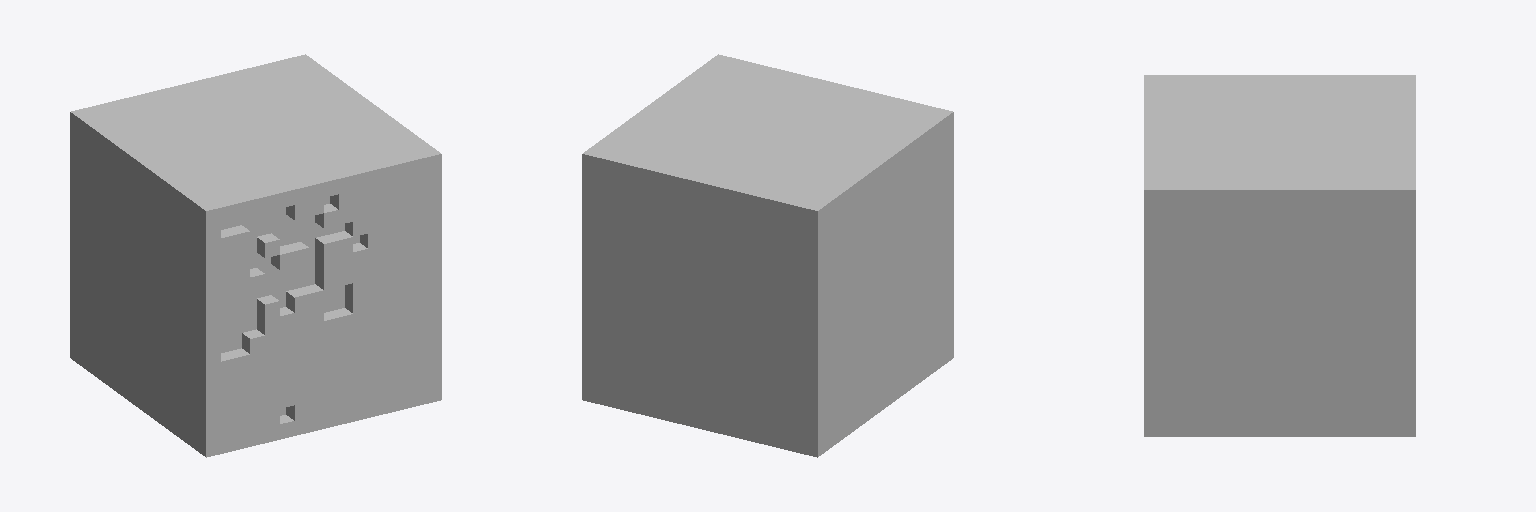
Rendered from wall3.obj.
3 views of the same model, side by side, from view 1: azimuth 30°, elevation 25°; view 2: azimuth 150°, elevation 25°; view 3: azimuth 270°, elevation 25° (orthographic).
Size of the model in its own units: 16 by 16 by 16.